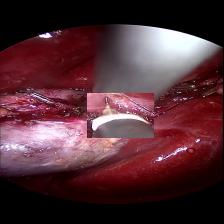Hook: (87, 92, 154, 137)
